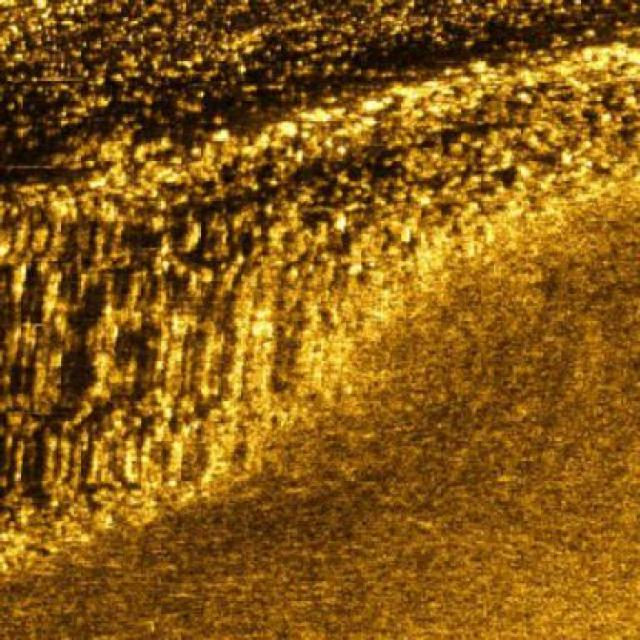bedrock group: (1, 0, 639, 571)
